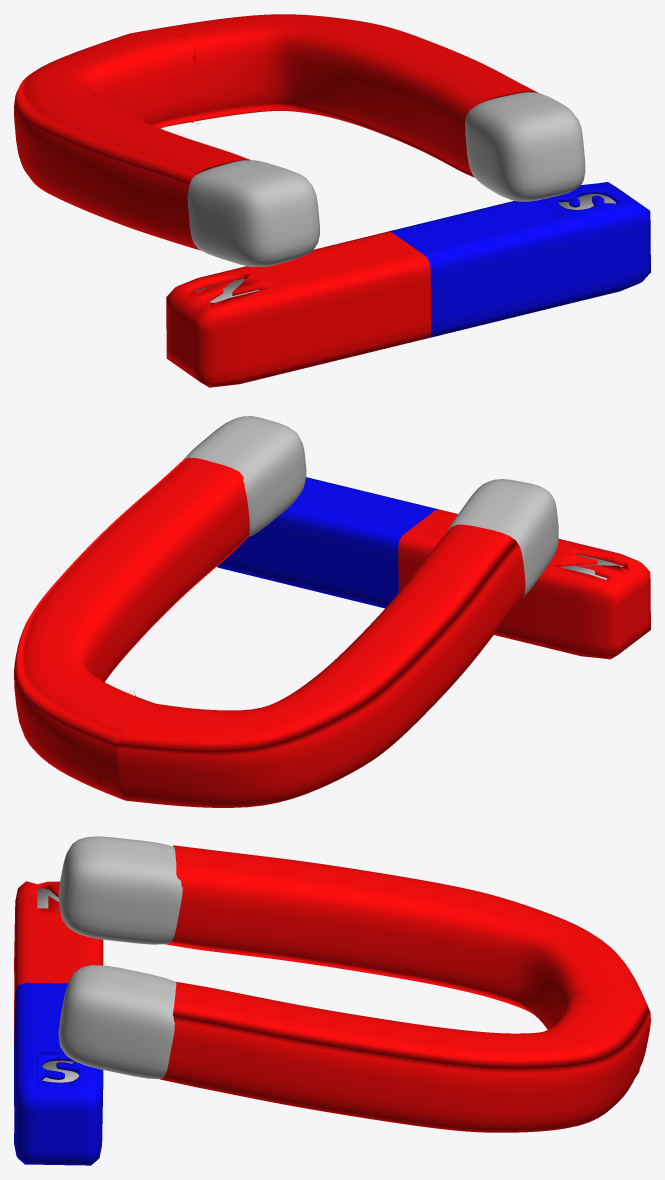
The model's file is magnet.fbx.
The picture shows the model from 3 angles, top to bottom: view 1: azimuth 30°, elevation 25°; view 2: azimuth 150°, elevation 25°; view 3: azimuth 270°, elevation 25°; orthographic projection. The views are drawn at different scales.
Visible parts, largest first — view 1: Empty_Mesh, Empty_Mesh_1; view 2: Empty_Mesh, Empty_Mesh_1; view 3: Empty_Mesh, Empty_Mesh_1.
Part boxes in pixels (bbox=[...]): Empty_Mesh: bbox=[14, 14, 585, 266]; Empty_Mesh_1: bbox=[166, 182, 650, 387]; Empty_Mesh: bbox=[14, 416, 558, 807]; Empty_Mesh_1: bbox=[217, 477, 650, 659]; Empty_Mesh: bbox=[58, 836, 650, 1132]; Empty_Mesh_1: bbox=[14, 881, 103, 1165].
Bounding box in the file's own units: 2.9 × 1.02 × 3.6.
